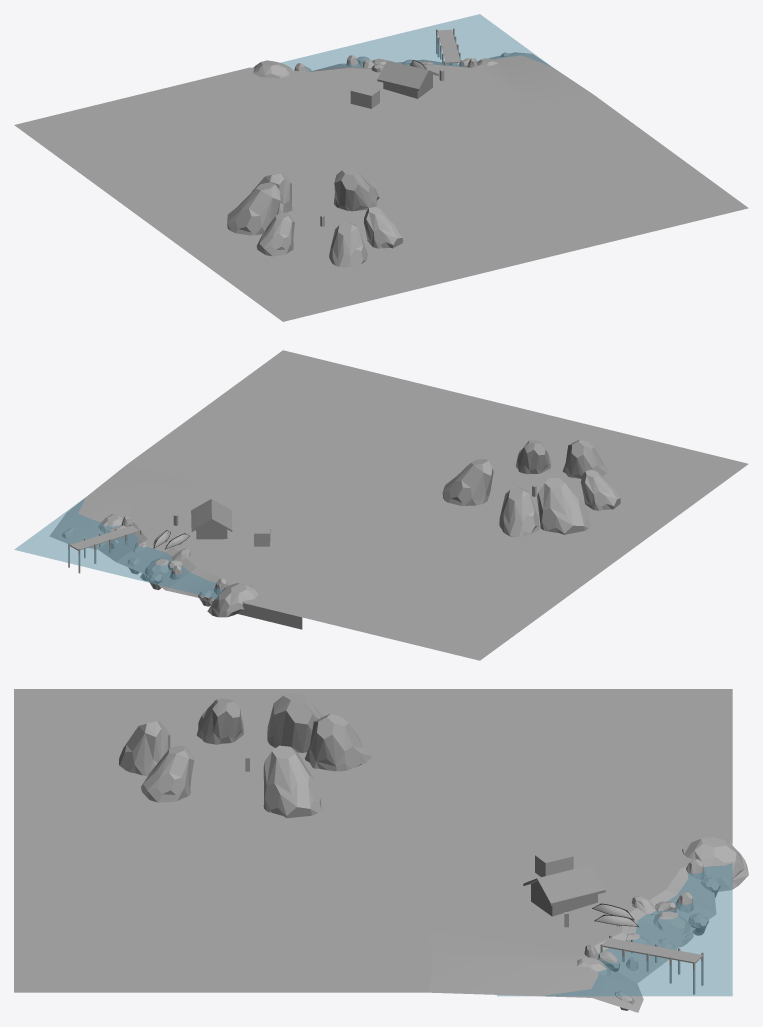
File: bro.fbx
3 views of the same model, one above another, from view 1: azimuth 30°, elevation 25°; view 2: azimuth 150°, elevation 25°; view 3: azimuth 270°, elevation 25° (orthographic). The views are drawn at different scales.
Parts seen in each view (by area): view 1: polySurface122; view 2: polySurface122; view 3: polySurface122.
Boxes of the visible parts, box(x1,y1,x2,y2) form: polySurface122: box(14, 14, 748, 321); polySurface122: box(14, 350, 748, 660); polySurface122: box(14, 689, 748, 1012).
Size of the model in its own units: 7500 by 7671 by 937.
